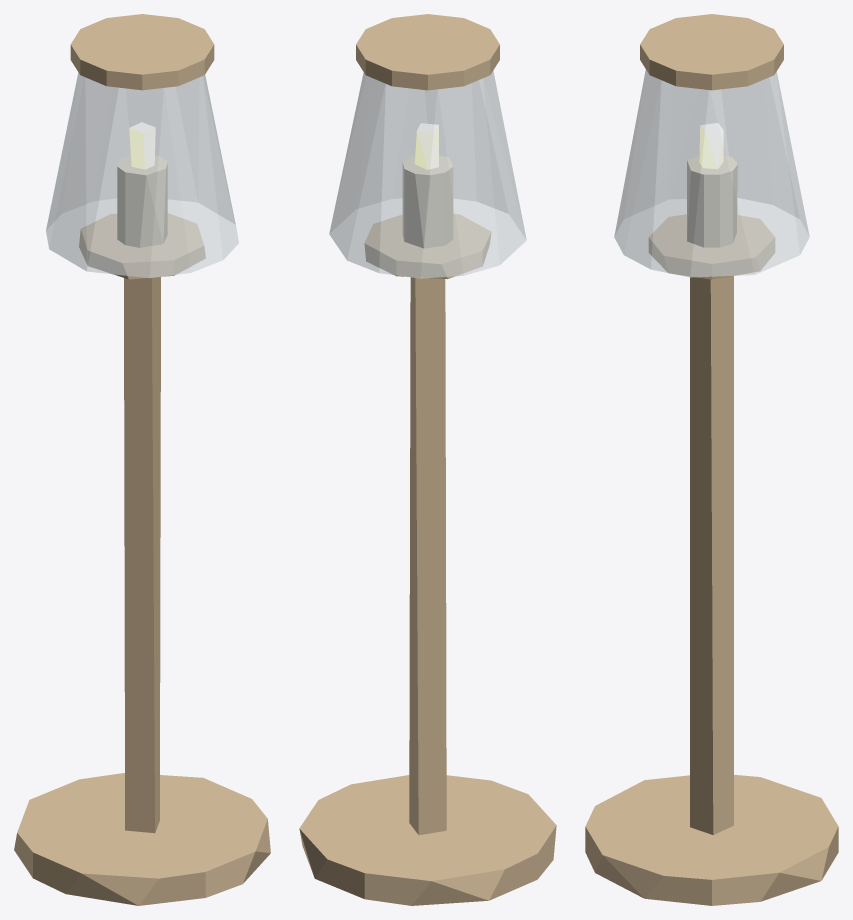
File: 18-Casas_lampara_pie.glb
The picture shows the model from 3 angles, left to right: view 1: azimuth 30°, elevation 25°; view 2: azimuth 150°, elevation 25°; view 3: azimuth 270°, elevation 25°; orthographic projection.
Parts seen in each view (by area): view 1: SM_Lampara_M_Mueble_Bronce, SM_Lampara_M_Mueble_Vidrio, SM_Lampara_M_Mueble_Cera_Mueble_Llama; view 2: SM_Lampara_M_Mueble_Bronce, SM_Lampara_M_Mueble_Vidrio, SM_Lampara_M_Mueble_Cera_Mueble_Llama; view 3: SM_Lampara_M_Mueble_Bronce, SM_Lampara_M_Mueble_Vidrio, SM_Lampara_M_Mueble_Cera_Mueble_Llama.
Boxes of the visible parts, bbox=[...] form: SM_Lampara_M_Mueble_Bronce: bbox=[14, 14, 270, 905]; SM_Lampara_M_Mueble_Vidrio: bbox=[46, 73, 238, 278]; SM_Lampara_M_Mueble_Cera_Mueble_Llama: bbox=[117, 122, 167, 247]; SM_Lampara_M_Mueble_Bronce: bbox=[299, 14, 556, 905]; SM_Lampara_M_Mueble_Vidrio: bbox=[329, 71, 526, 278]; SM_Lampara_M_Mueble_Cera_Mueble_Llama: bbox=[402, 123, 453, 248]; SM_Lampara_M_Mueble_Bronce: bbox=[585, 14, 838, 905]; SM_Lampara_M_Mueble_Vidrio: bbox=[614, 69, 809, 277]; SM_Lampara_M_Mueble_Cera_Mueble_Llama: bbox=[687, 123, 737, 247].
Size of the model in its own units: 0.44 by 1.55 by 0.44.
